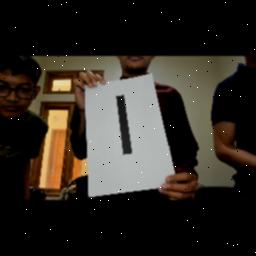i: (108, 89, 138, 157)
